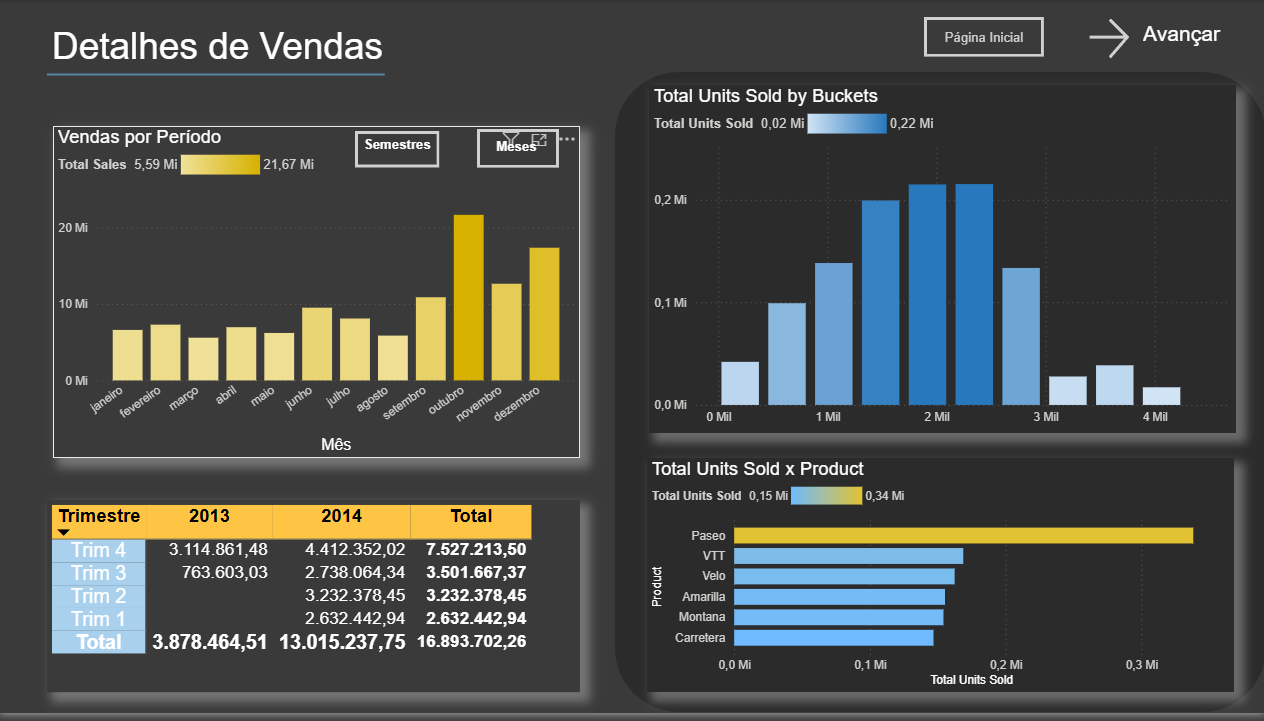

What the dashboard file says about the page in this screenshot:
{"tool":"powerbi","page":{"name":"Detalhes","canvas":[1280,720],"ordinal":2},"visuals":[{"type":"textbox","box":[49.5,20.2,354.3,65.6],"z":0,"group":"g3"},{"type":"shape","box":[622.8,72.7,657.2,646.1],"z":0},{"type":"textbox","box":[361.1,133.3,85.5,32.6],"z":0,"group":"g2"},{"type":"textbox","box":[488.3,135.3,69.6,34.8],"z":0,"group":"g1"},{"type":"shape","box":[49.5,64.6,341.2,21.2],"z":1000,"group":"g3"},{"type":"actionButton","title":"Botão - Vendas por Periodo","box":[483.1,130.2,82.8,39.3],"z":1000,"group":"g1"},{"type":"actionButton","title":"Botão - Vendas por Periodo2","box":[360.9,132,85.5,36.8],"z":1000,"group":"g2"},{"type":"clusteredBarChart","title":"Total Units Sold x Product","fields":{"Category":["financials.Product"],"Y":["Sum(financials.Units Sold)"]},"box":[655.1,462.3,592.6,236.2],"z":1000},{"type":"clusteredColumnChart","title":"Total Units Sold by Buckets","fields":{"Category":["financials.Buckets"],"Y":["Sum(financials.Units Sold)"]},"box":[657.2,85.8,592.6,351.3],"z":2000},{"type":"columnChart","title":"Vendas por Período","fields":{"Category":["financials.Date.Variation.Hierarquia de datas.Mês"],"Y":["Sum(financials. Sales)"]},"box":[55.5,127.2,532,335.1],"z":3000},{"type":"pivotTable","fields":{"Columns":["financials.Date.Variation.Hierarquia de datas.Ano"],"Rows":["financials.Date.Variation.Hierarquia de datas.Trimestre"],"Values":["Sum(financials.Profit)"]},"box":[49.5,504.7,538,193.8],"z":5000},{"type":"group","id":"g1","title":"Grupo 2","box":[483.1,130.2,82.4,40.7],"z":6000},{"type":"group","id":"g2","title":"Grupo 1","box":[360.9,132,85.1,37.1],"z":7000},{"type":"group","id":"g3","title":"TITLE - Detalhes de Vendas","box":[49.5,20.2,354.3,65.6],"z":8000},{"type":"textbox","box":[1150.8,17.2,98.9,44.4],"z":9000},{"type":"actionButton","box":[1095.3,13.1,154.4,51.5],"z":10000},{"type":"actionButton","box":[934.8,17.2,121.1,40.4],"z":11000}]}

Visuals, with their boxes in screenshot pixels (x1, y1, x2, y2), scaled from the page's 1280x720 canvas onto the 1264x721 screenshot:
textbox: (x1=49, y1=20, x2=399, y2=86)
shape: (x1=615, y1=73, x2=1263, y2=720)
textbox: (x1=357, y1=133, x2=441, y2=166)
textbox: (x1=482, y1=135, x2=551, y2=170)
shape: (x1=49, y1=65, x2=386, y2=86)
"Botão - Vendas por Periodo" actionButton: (x1=477, y1=130, x2=559, y2=170)
"Botão - Vendas por Periodo2" actionButton: (x1=356, y1=132, x2=441, y2=169)
"Total Units Sold x Product" clusteredBarChart: (x1=647, y1=463, x2=1232, y2=699)
"Total Units Sold by Buckets" clusteredColumnChart: (x1=649, y1=86, x2=1234, y2=438)
"Vendas por Período" columnChart: (x1=55, y1=127, x2=580, y2=463)
pivotTable - financials.Date.Variation.Hierarquia de datas.Ano x financials.Date.Variation.Hierarquia de datas.Trimestre: (x1=49, y1=505, x2=580, y2=699)
"Grupo 2" group: (x1=477, y1=130, x2=558, y2=171)
"Grupo 1" group: (x1=356, y1=132, x2=440, y2=169)
"TITLE - Detalhes de Vendas" group: (x1=49, y1=20, x2=399, y2=86)
textbox: (x1=1136, y1=17, x2=1234, y2=62)
actionButton: (x1=1082, y1=13, x2=1234, y2=65)
actionButton: (x1=923, y1=17, x2=1043, y2=58)
